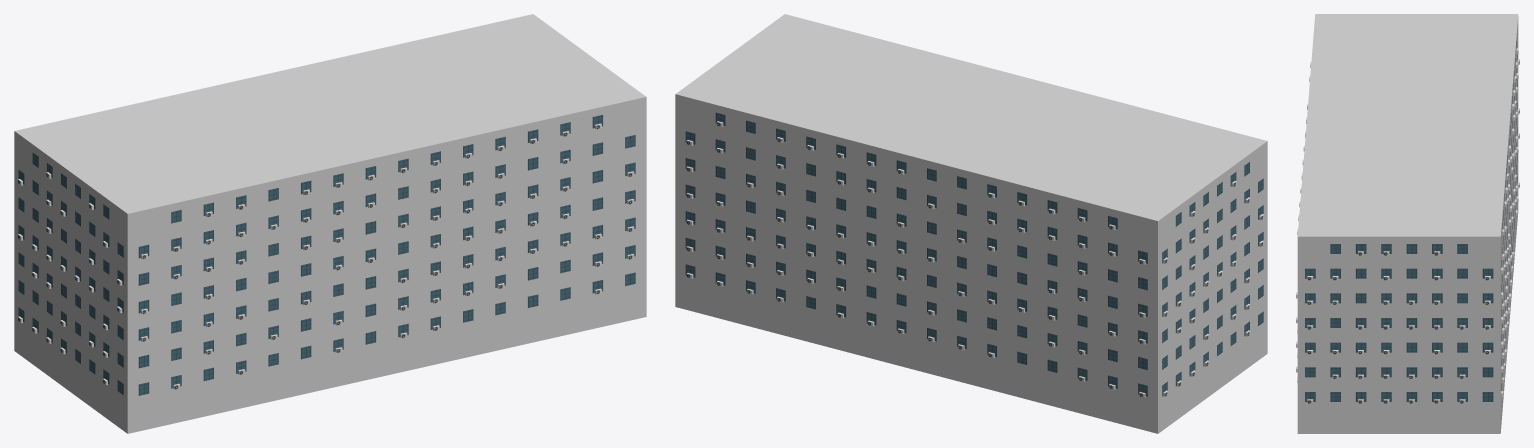
File: Taipei101NearBuildingTest.fbx
3 renders of one model, left to right at view 1: azimuth 30°, elevation 25°; view 2: azimuth 150°, elevation 25°; view 3: azimuth 270°, elevation 25°, orthographic. The views are drawn at different scales.
Parts seen in each view (by area): view 1: Areas:building.079; view 2: Areas:building.079; view 3: Areas:building.079.
Part boxes in pixels (left/top/right/bottom): Areas:building.079: left=14, top=14, right=646, bottom=433; Areas:building.079: left=675, top=14, right=1267, bottom=433; Areas:building.079: left=1296, top=14, right=1519, bottom=433.
Bounding box in the file's own units: 11889 × 4874 × 5012.
